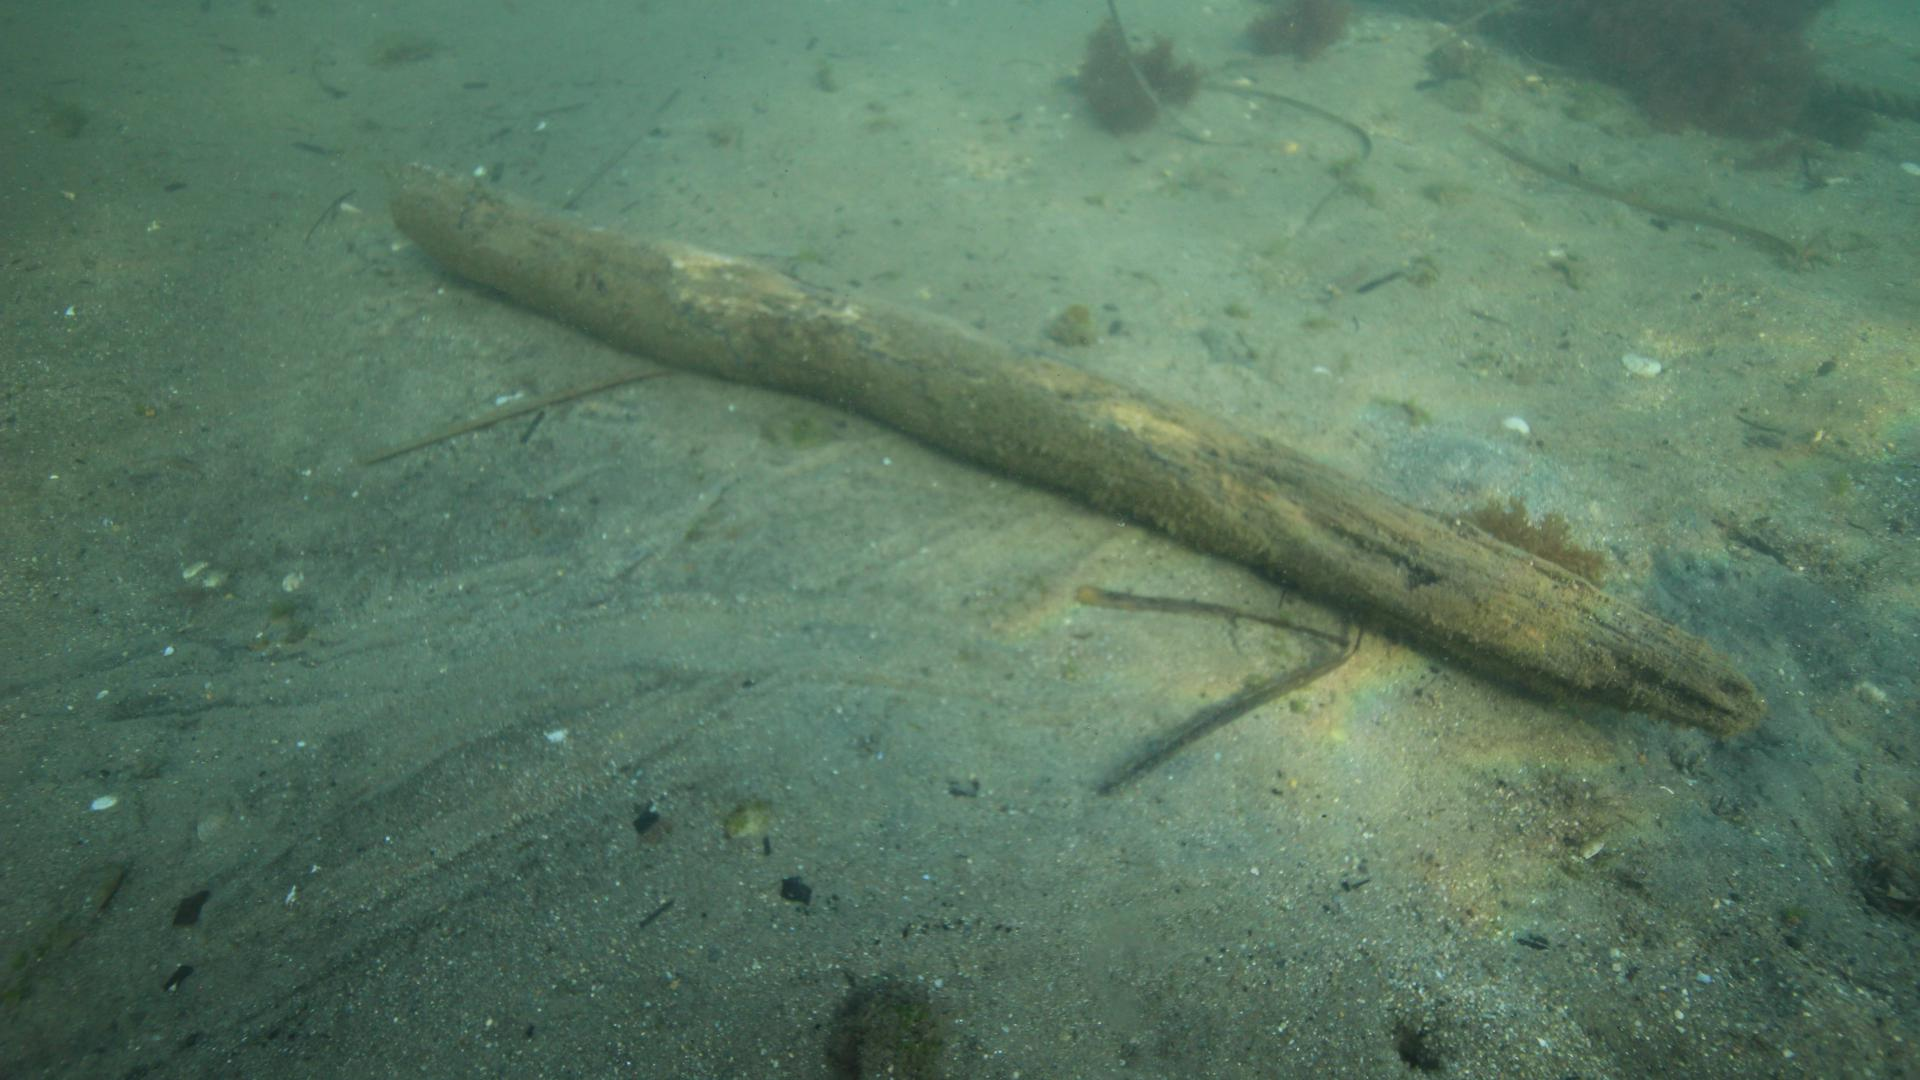wood: (382, 156, 1768, 742)
